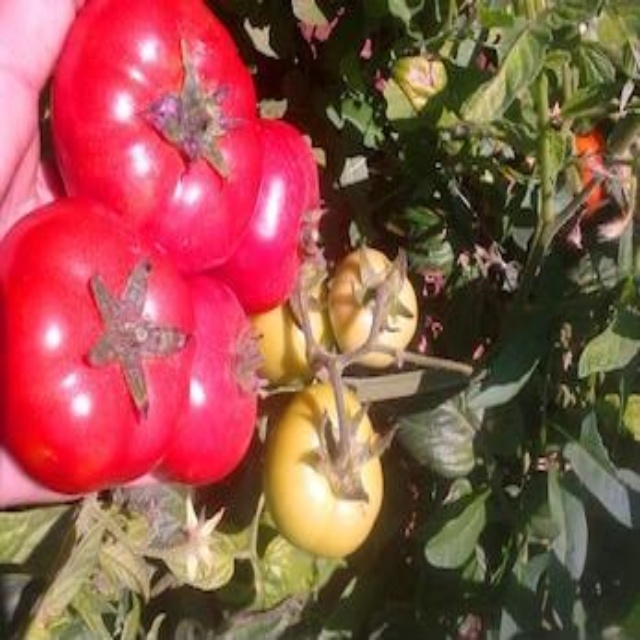tomato: (59, 10, 254, 262), (12, 212, 183, 480), (199, 115, 331, 314), (271, 381, 388, 549), (170, 285, 259, 488), (322, 257, 436, 377)
